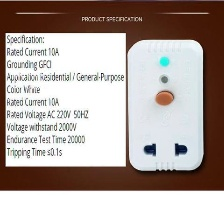three_eye_plug: (124, 37, 206, 173)
